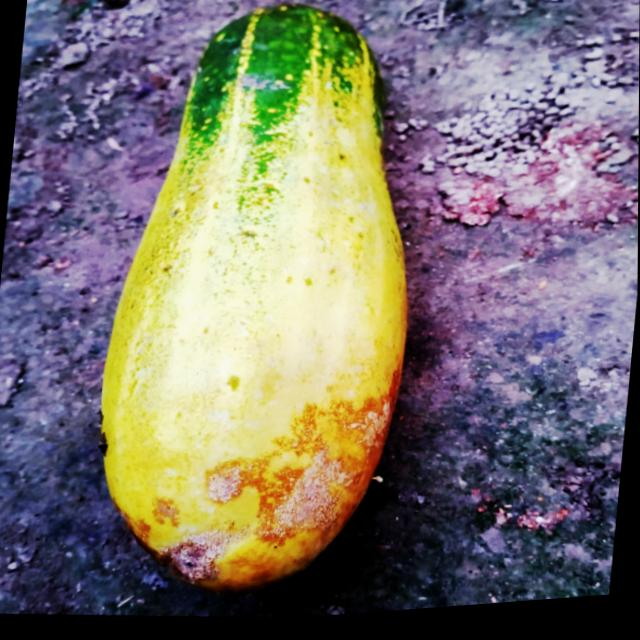Belly-Rot: (140, 347, 413, 613)
